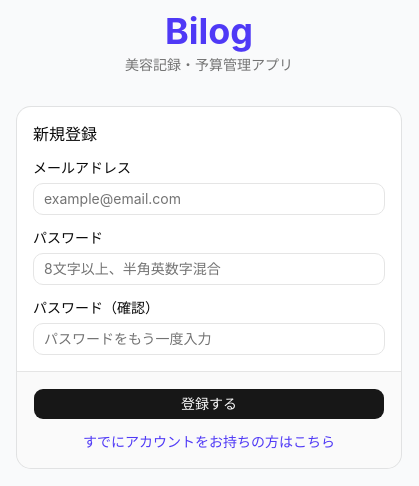
Test case: SignUpPage › 登録成功後に確認メール送信済み画面に切り替わること
Type "test@example.com" into the field labelled "メールアドレス". click: (209, 198)
box: [33, 182, 385, 214]
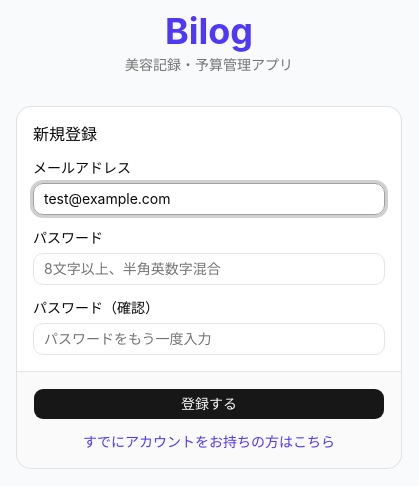
Type "pass1234" into the password field labelled "パスワード". click: (209, 268)
box: [33, 252, 385, 284]
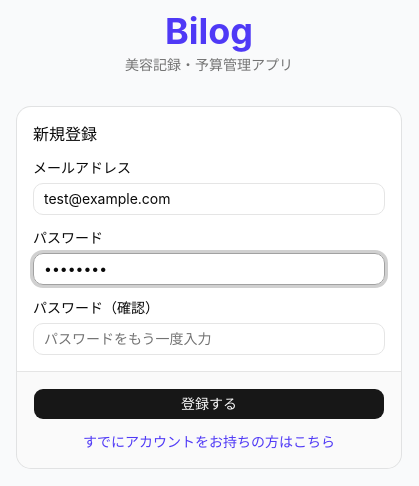
Type "pass1234" into the password field labelled "パスワード（確認）". click: (209, 338)
box: [33, 322, 385, 354]
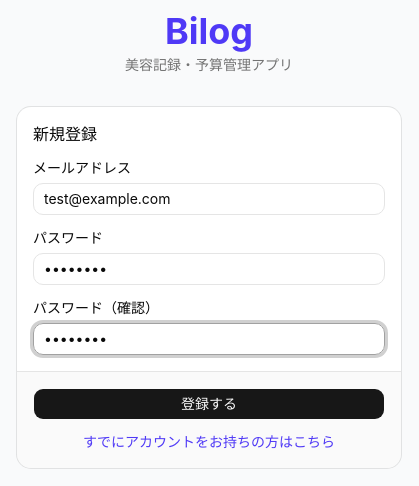
Click the button "登録する". click: (209, 404)
box: [33, 388, 385, 420]
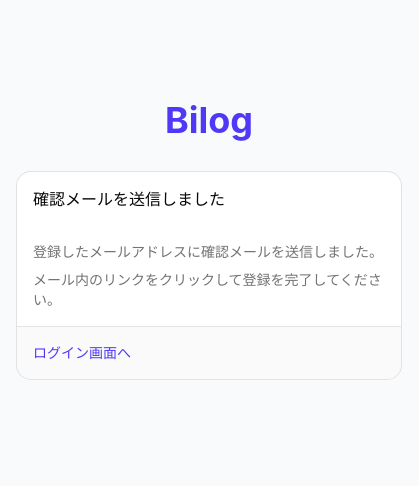
Check: the text "確認メールを送信しました" is shown, box [33, 188, 225, 208]
